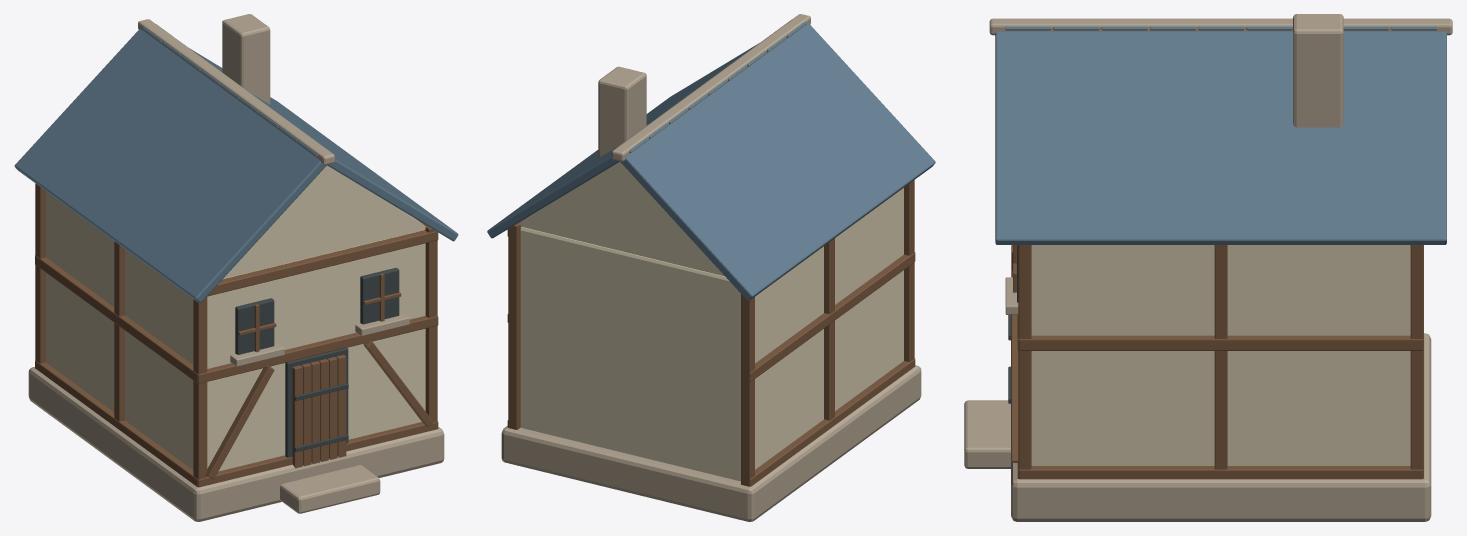
The model's file is timber_house.glb.
The picture shows the model from 3 angles, left to right: view 1: azimuth 30°, elevation 25°; view 2: azimuth 150°, elevation 25°; view 3: azimuth 270°, elevation 25°; orthographic projection. The views are drawn at different scales.
Parts seen in each view (by area): view 1: SceneryRuntime; view 2: SceneryRuntime; view 3: SceneryRuntime.
Boxes of the visible parts, <box> form: SceneryRuntime: <box>14,14,458,521</box>; SceneryRuntime: <box>487,14,935,521</box>; SceneryRuntime: <box>964,14,1452,521</box>.
Size of the model in its own units: 4.84 by 6.47 by 6.27.
